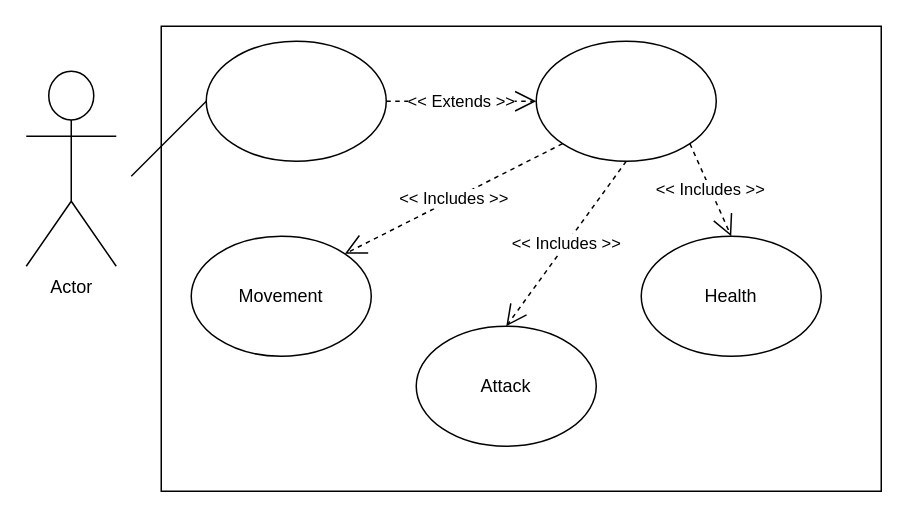
This 908x518 diagram has some shape labels left out. The centre of each missing label's shape, as x and y in pixels:
Enemies Interact: point (625, 100)
Enters Level: point (295, 100)
